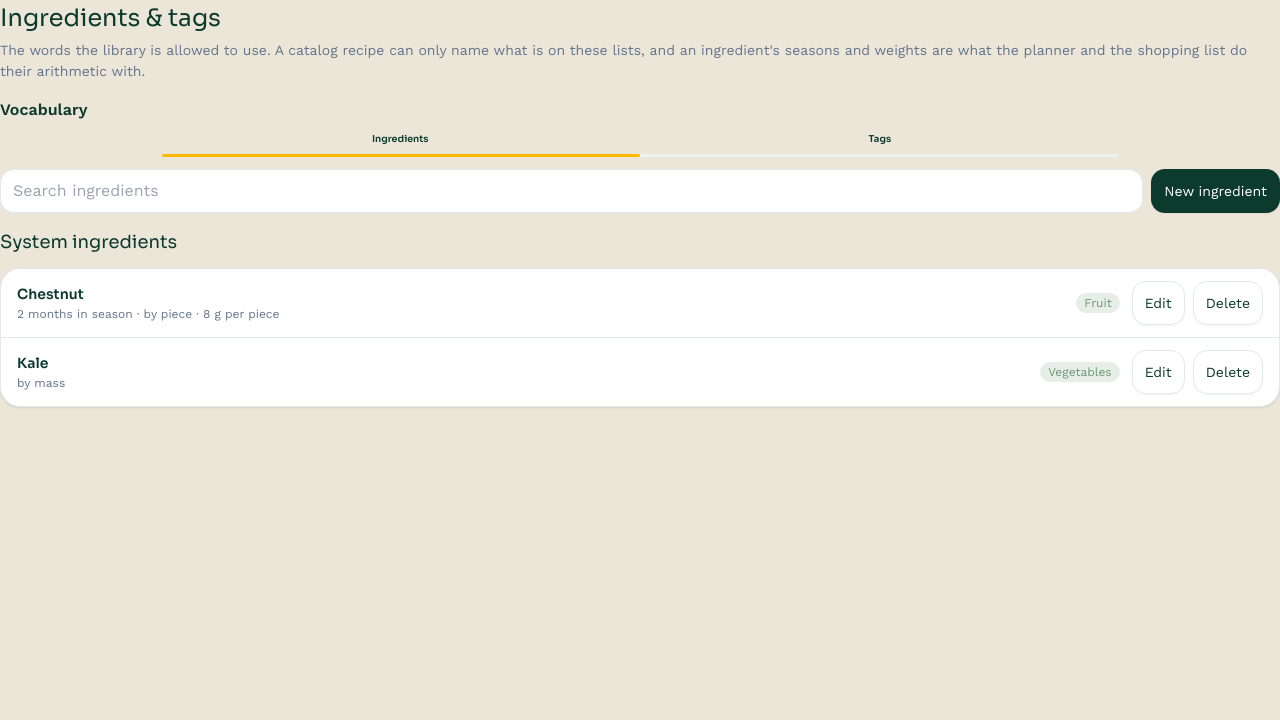
Scenario: the confirmation reports the server count, not one guessed from the catalog
The image size is (1280, 720).
Expected: the text "Chestnut" is shown, x1=17 y1=285 x2=84 y2=303
Click the button "Delete" in the row of "Kale": (1228, 372) x1=1193 y1=350 x2=1263 y2=394
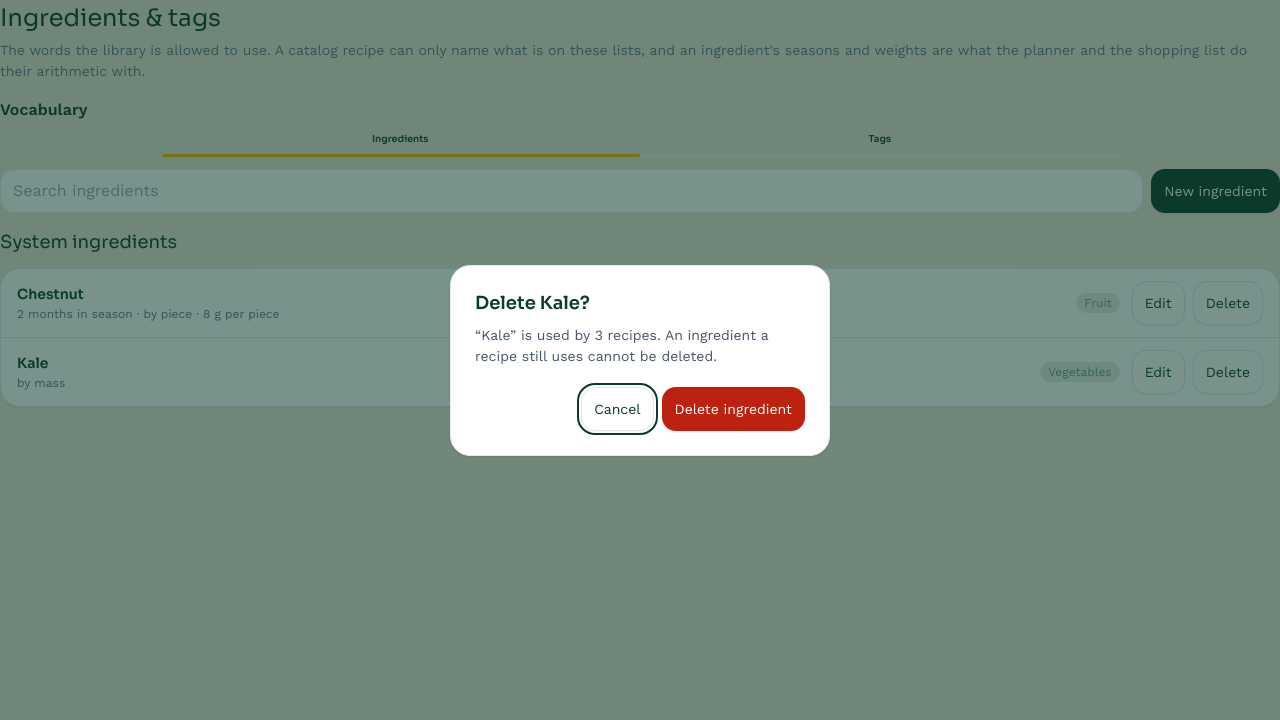
Now the dialog shows "3 recipes", box x1=475 y1=326 x2=768 y2=364
